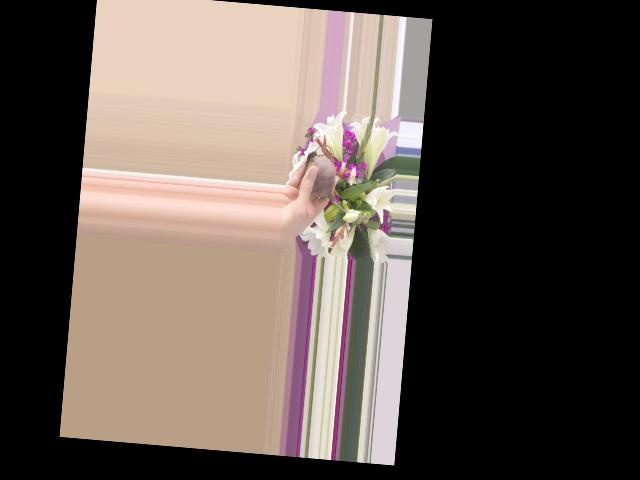beet: (301, 142, 360, 213)
